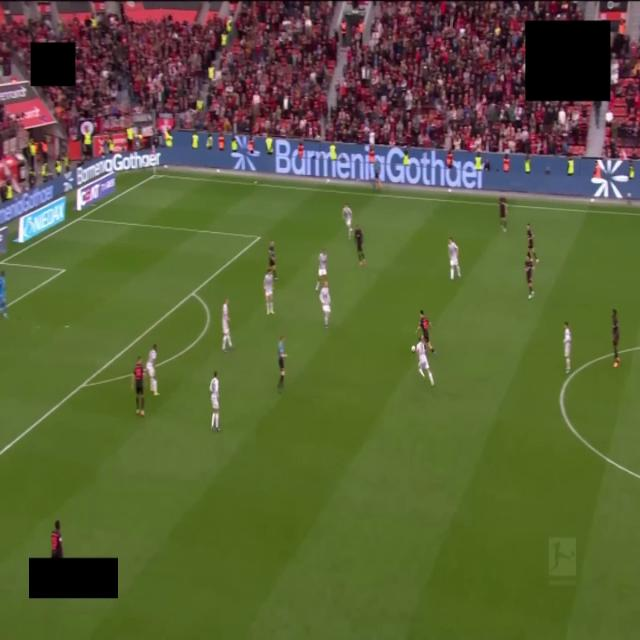ball: (411, 345, 415, 352)
player: (416, 336, 434, 386), (416, 311, 435, 354), (132, 357, 144, 415), (146, 344, 159, 396), (210, 372, 219, 431), (222, 298, 232, 351), (319, 281, 330, 327), (263, 270, 274, 315), (448, 238, 460, 279), (51, 520, 63, 558), (527, 224, 538, 265), (316, 250, 327, 290), (354, 225, 365, 265), (525, 253, 534, 299), (612, 310, 619, 367), (564, 322, 571, 373), (343, 202, 352, 239), (0, 271, 7, 318), (269, 240, 277, 279), (499, 196, 507, 231)
referee: (278, 336, 286, 391)
